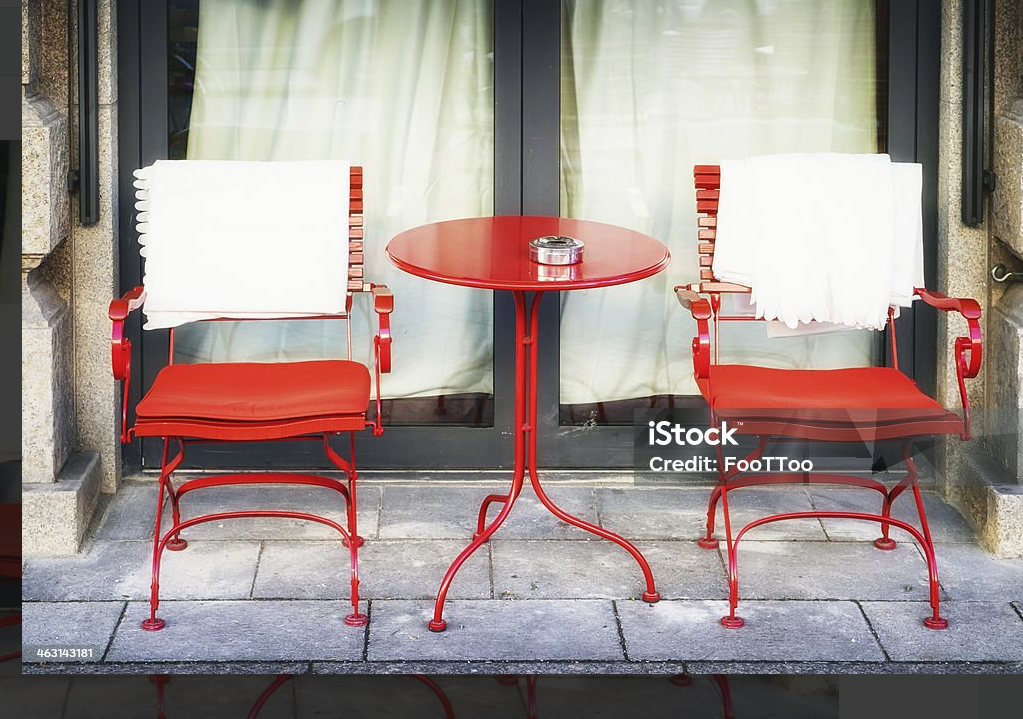obstacle: (685, 154, 988, 633), (111, 152, 393, 630), (389, 210, 681, 635)
